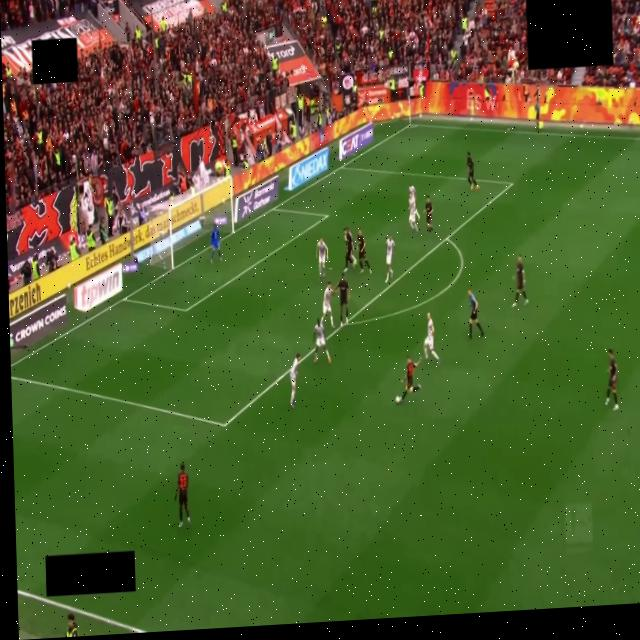ball: (395, 396, 401, 403)
player: (175, 463, 190, 527), (400, 357, 421, 400), (424, 313, 440, 364), (512, 256, 528, 307), (334, 273, 349, 325), (606, 349, 618, 410), (314, 320, 330, 363), (358, 228, 372, 274), (321, 282, 334, 329), (289, 353, 300, 407), (344, 228, 356, 272), (317, 238, 328, 280), (467, 152, 478, 189), (210, 225, 221, 262), (386, 235, 394, 283), (409, 195, 418, 232), (425, 196, 433, 233), (409, 184, 416, 203)
referee: (468, 290, 484, 339)
